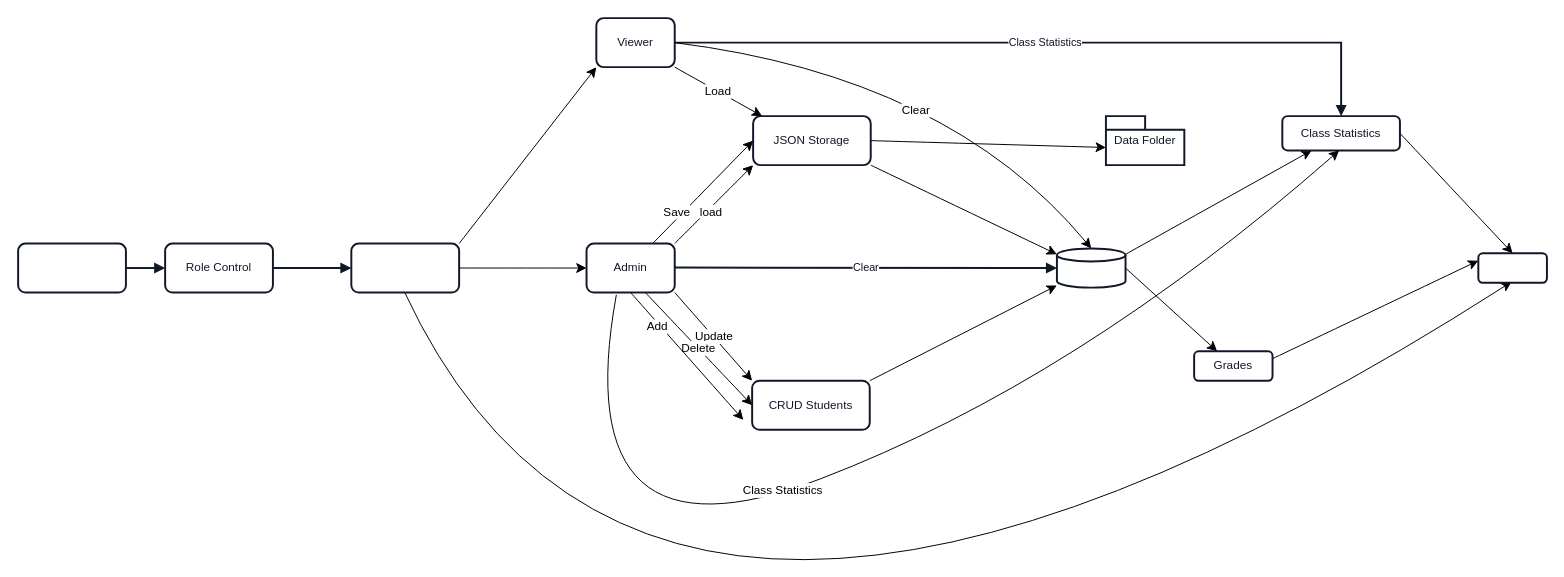
The diagram is 1564 pixels wide and 577 high, and some of its shapes have lost their labels. Each missing label, with the centre of its shape:
Access Control: the point at 405,267
Data: the point at 1090,267
Role Selection: the point at 71,267
UI: the point at 1512,267
